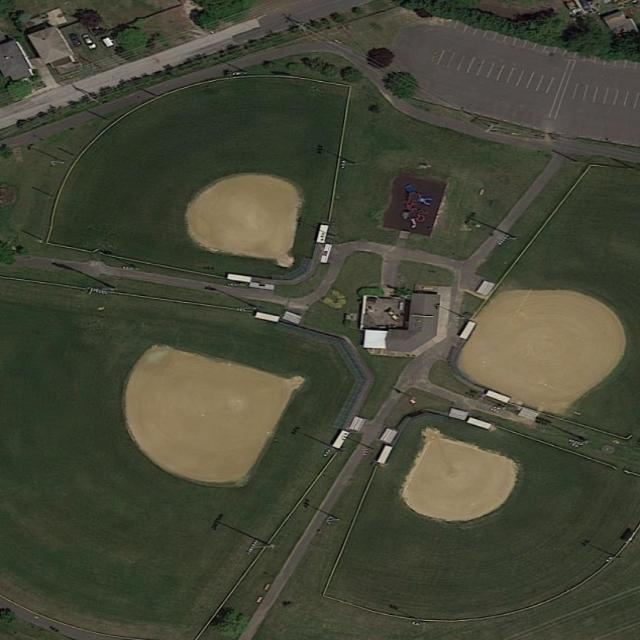small-vehicle: (82, 34, 98, 50), (68, 33, 84, 47)
